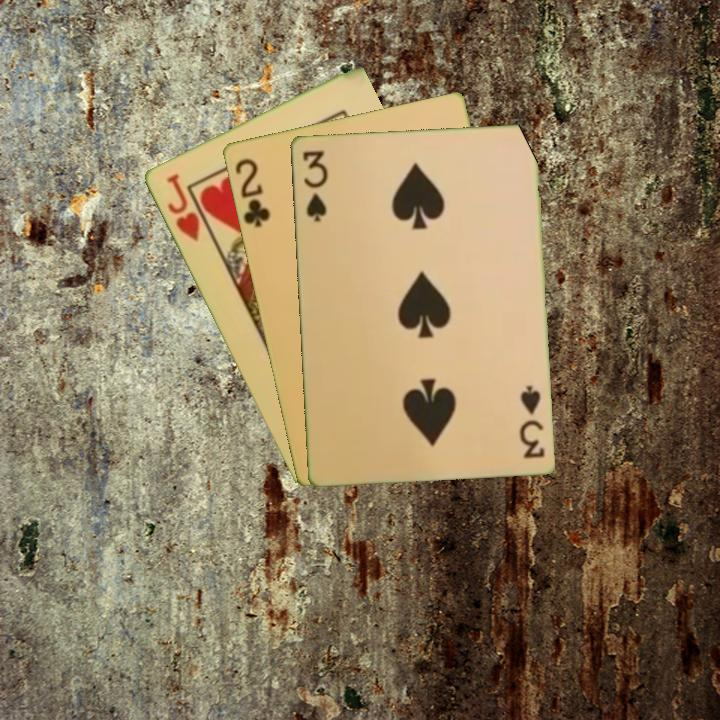2c: (231, 154, 273, 230)
3s: (298, 146, 330, 225), (515, 382, 547, 461)
Jh: (162, 170, 215, 245)
